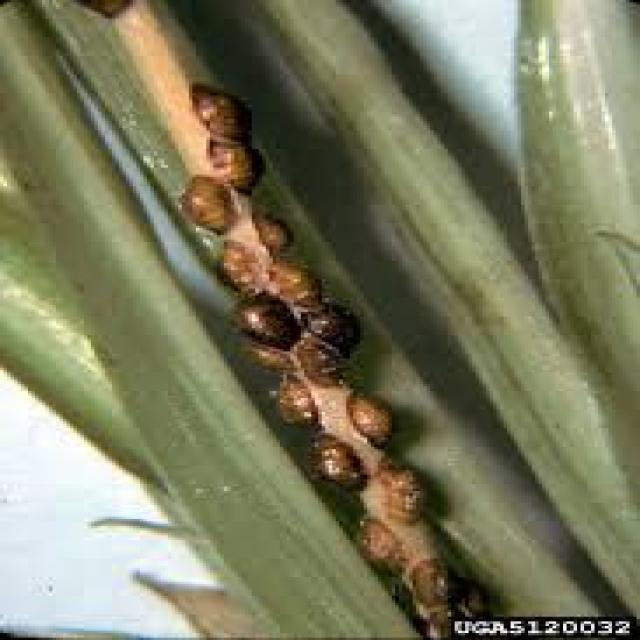Black Scale: (178, 84, 483, 626)
